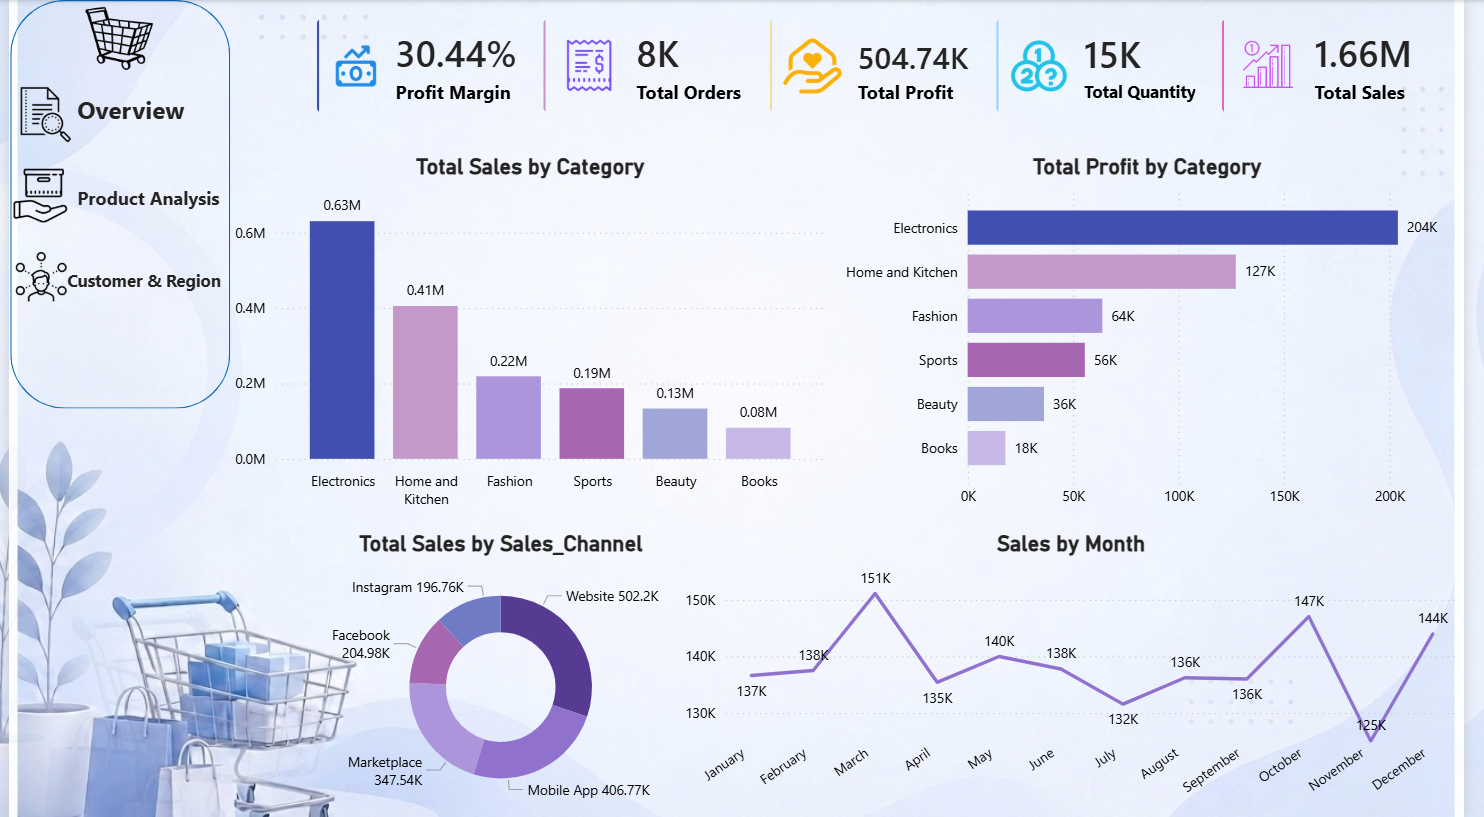

The dashboard page shown, as its layout file describes it:
{"tool":"powerbi","page":{"name":"Overview","canvas":[1280,720],"ordinal":0},"visuals":[{"type":"cardVisual","fields":{"Data":["Orders.Profit Margin","Orders.Total Orders","Orders.Total Profit","Orders.Total Quantity","Orders.Total Sales"]},"box":[254.2,0,1025.3,116.2],"z":0},{"type":"lineChart","title":"Sales by Month","fields":{"Category":["Orders.Order_Date.Variation.Date Hierarchy.Month"],"Y":["Sum(Orders.Sales)"]},"box":[589.5,467.3,690,253],"z":1},{"type":"clusteredColumnChart","fields":{"Category":["Orders.Category"],"Y":["Orders.Total Sales"]},"box":[193.7,135.6,530.2,319.6],"z":2},{"type":"barChart","fields":{"Category":["Orders.Category"],"Y":["Orders.Total Profit"]},"box":[723.9,135.6,555.6,319.6],"z":3},{"type":"donutChart","fields":{"Category":["Orders.Sales_Channel"],"Y":["Orders.Total Sales"]},"box":[276,467.3,313.5,253],"z":4},{"type":"shape","box":[1.1,0,193.5,359.6],"z":5},{"type":"textbox","box":[54.5,77.5,112.6,38.7],"z":7},{"type":"image","box":[49.5,0,95.7,64.9],"z":8},{"type":"image","box":[0,67.8,54.5,59.3],"z":9},{"type":"textbox","box":[54.5,158.6,186.4,37.5],"z":10},{"type":"image","box":[0,148.9,54.5,47.2],"z":11},{"type":"textbox","box":[46,232.4,169.5,41.2],"z":12},{"type":"image","box":[1.2,211.8,54.5,61.7],"z":13},{"type":"actionButton","box":[54.5,73.8,112.6,42.4],"z":14},{"type":"actionButton","box":[55.7,157.4,138,39.9],"z":15},{"type":"actionButton","box":[47.2,233.6,146.5,39.9],"z":16}]}

Visuals, with their boxes in screenshot pixels (x1, y1, x2, y2), scaled from the page's 1280x720 canvas onto the 1484x817 screenshot:
cardVisual - Orders.Profit Margin x Orders.Total Orders: [left=295, top=0, right=1483, bottom=132]
"Sales by Month" lineChart: [left=683, top=530, right=1483, bottom=816]
clusteredColumnChart - Orders.Category x Orders.Total Sales: [left=225, top=154, right=839, bottom=517]
barChart - Orders.Category x Orders.Total Profit: [left=839, top=154, right=1483, bottom=517]
donutChart - Orders.Sales_Channel x Orders.Total Sales: [left=320, top=530, right=683, bottom=816]
shape: [left=1, top=0, right=226, bottom=408]
textbox: [left=63, top=88, right=194, bottom=132]
image: [left=57, top=0, right=168, bottom=74]
image: [left=0, top=77, right=63, bottom=144]
textbox: [left=63, top=180, right=279, bottom=223]
image: [left=0, top=169, right=63, bottom=223]
textbox: [left=53, top=264, right=250, bottom=310]
image: [left=1, top=240, right=65, bottom=310]
actionButton: [left=63, top=84, right=194, bottom=132]
actionButton: [left=65, top=179, right=225, bottom=224]
actionButton: [left=55, top=265, right=225, bottom=310]
